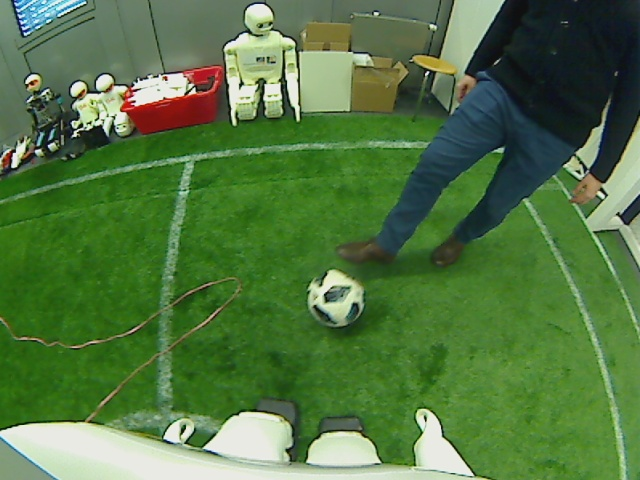ball: (305, 268, 365, 331)
